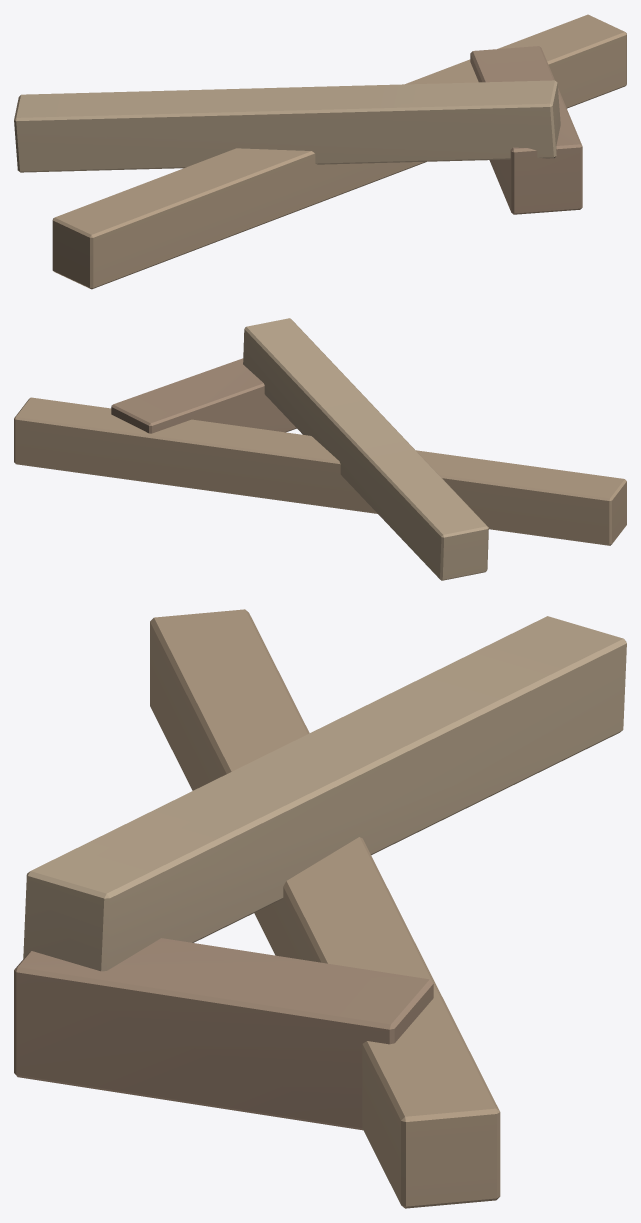
Rendered from BM_TimberPile.glb.
3 renders of one model, top to bottom at view 1: azimuth 30°, elevation 25°; view 2: azimuth 150°, elevation 25°; view 3: azimuth 270°, elevation 25°, orthographic. The views are drawn at different scales.
Parts seen in each view (by area): view 1: Body; view 2: Body; view 3: Body.
Boxes of the visible parts, x1=… form: Body: x1=14, y1=14, x2=626, y2=289; Body: x1=14, y1=318, x2=626, y2=580; Body: x1=14, y1=609, x2=626, y2=1208.
Size of the model in its own units: 11.93 by 2.01 by 6.05.
